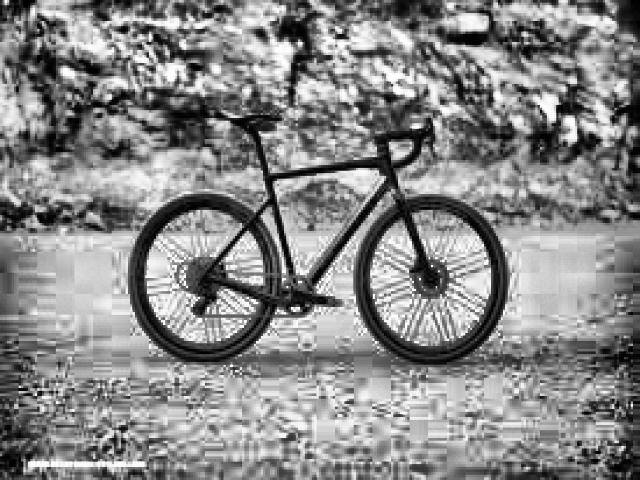cassette: (186, 253, 224, 295)
cranks_set: (277, 273, 342, 318)
pedal: (324, 293, 344, 305)
rear_derailleur: (192, 286, 221, 318)
saddle: (220, 110, 284, 130)
sti_shifter: (425, 117, 440, 161)
wheel: (354, 194, 508, 366), (130, 192, 281, 366)
